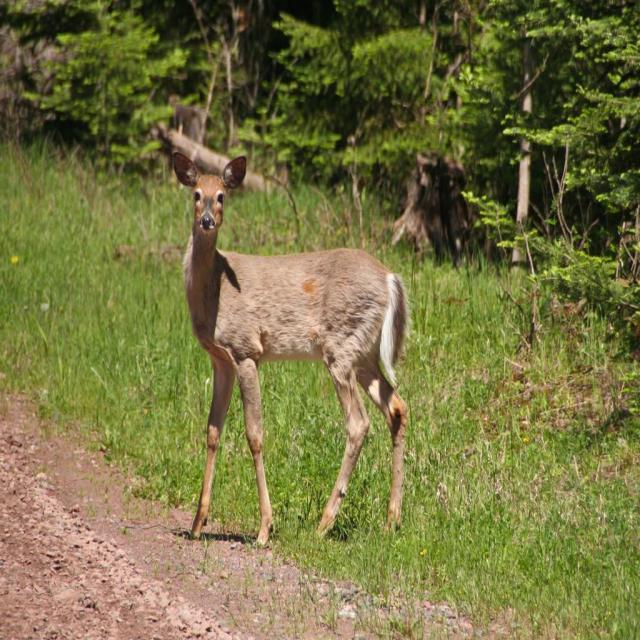Deer: (172, 153, 411, 550)
